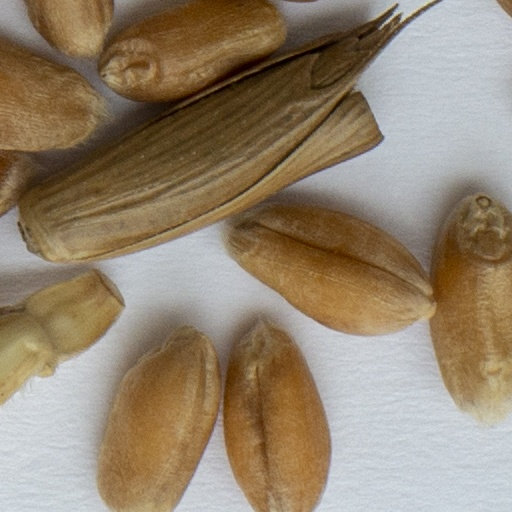Peel-poly: (16, 0, 443, 265), (0, 262, 124, 405)
